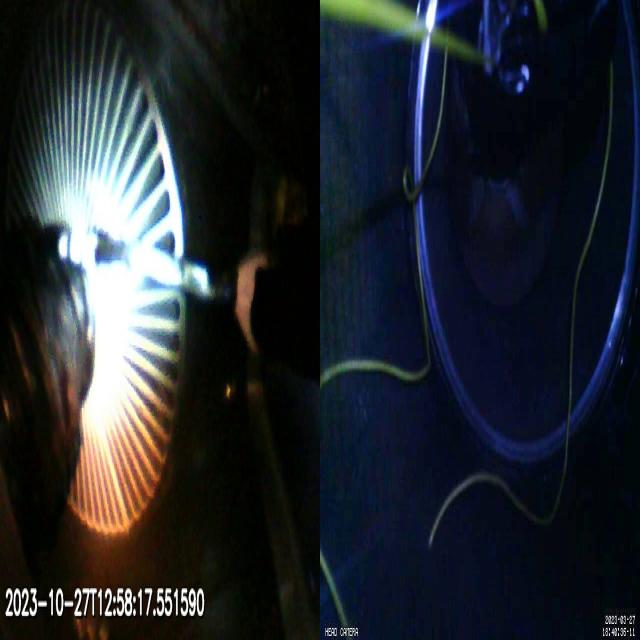head: (236, 257, 282, 349)
white-dots: (58, 221, 100, 274)
